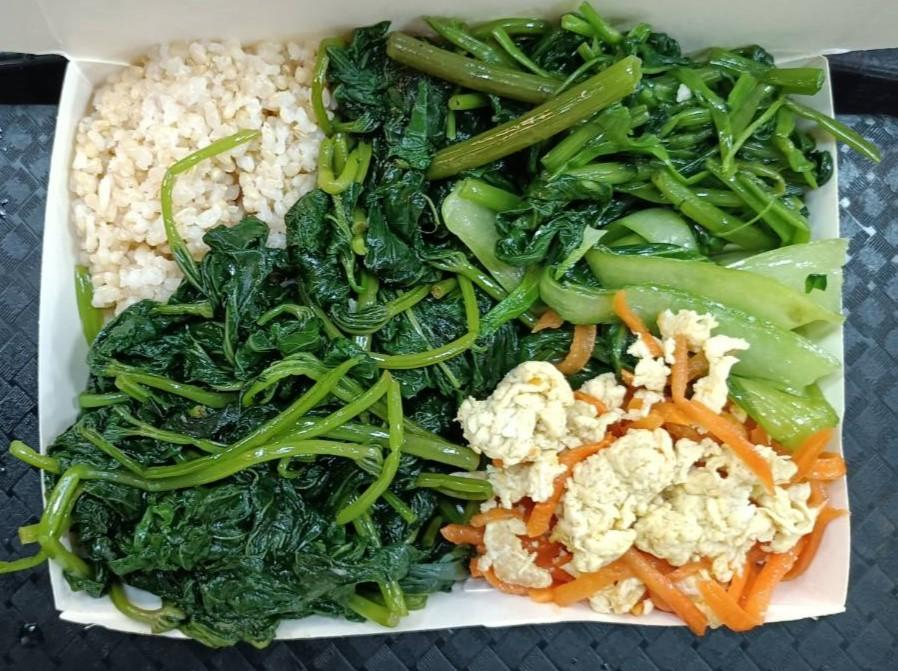big grilled chicken leg: (15, 40, 869, 663)
box: (65, 45, 340, 321)
braised fish fillet: (59, 31, 507, 635), (493, 376, 823, 609), (532, 27, 820, 243), (527, 216, 828, 397)
